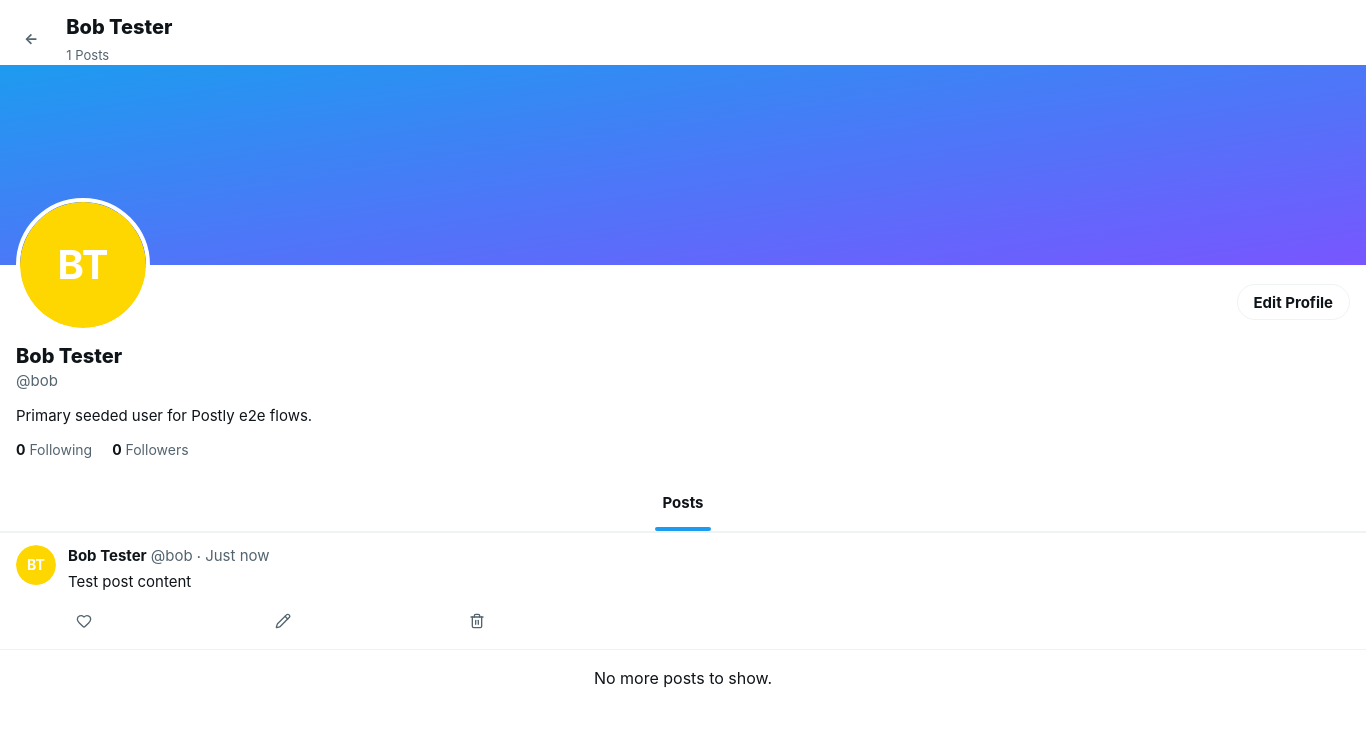
Test: profile editing UI › preserves draft inputs and keeps saved identity unchanged after a failed save
Click the button with test id "profile-edit-button": (1293, 302) [1236,284,1350,320]
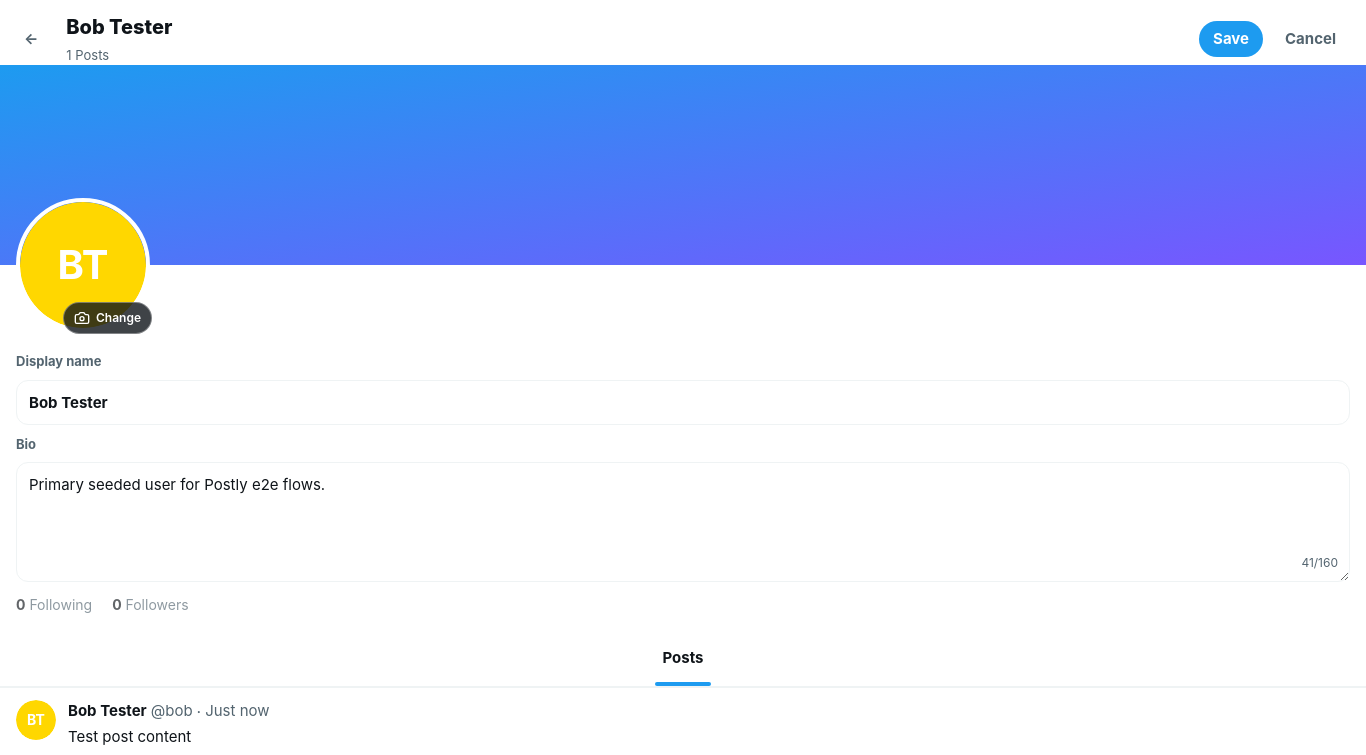
Replace the text in the field with test id "profile-display-name-input" with "  Bob Draft  ": (683, 402) [16,380,1350,424]
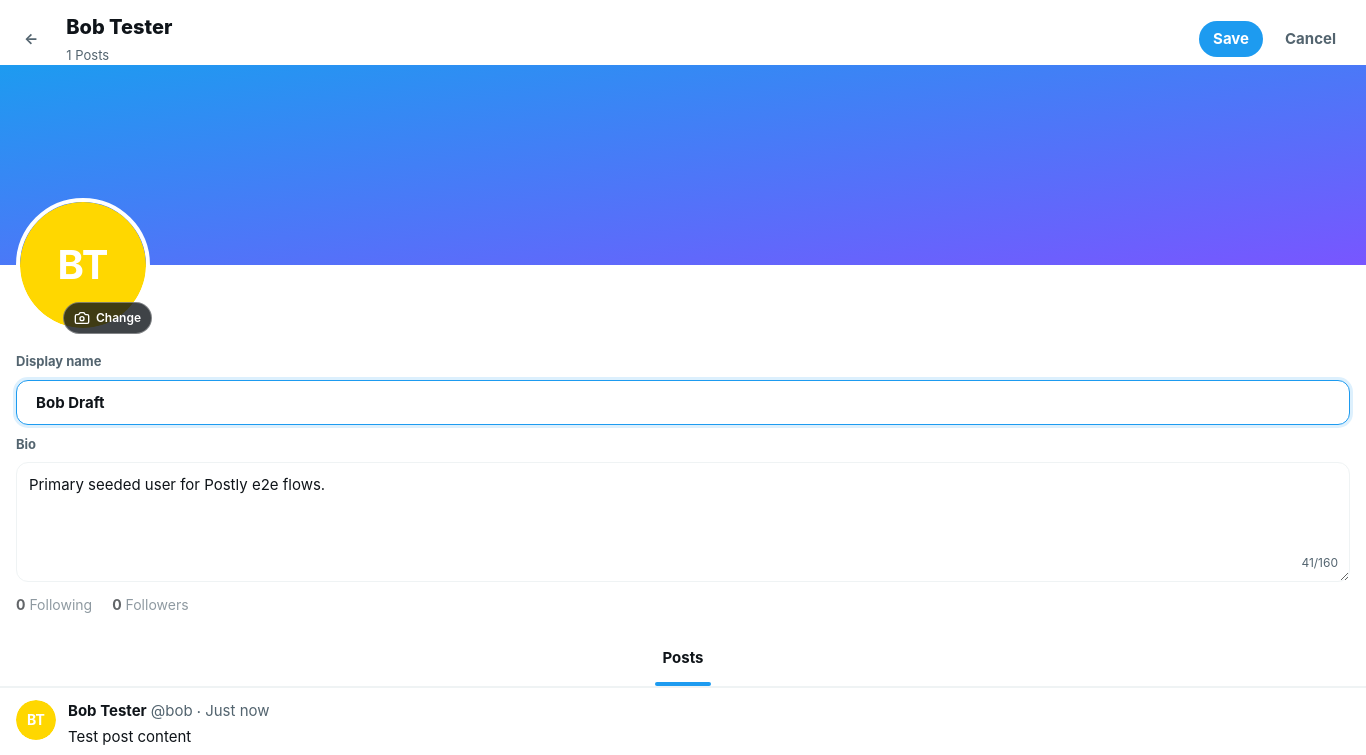
Click the button with test id "profile-save-button": (1231, 38) [1199,20,1263,56]
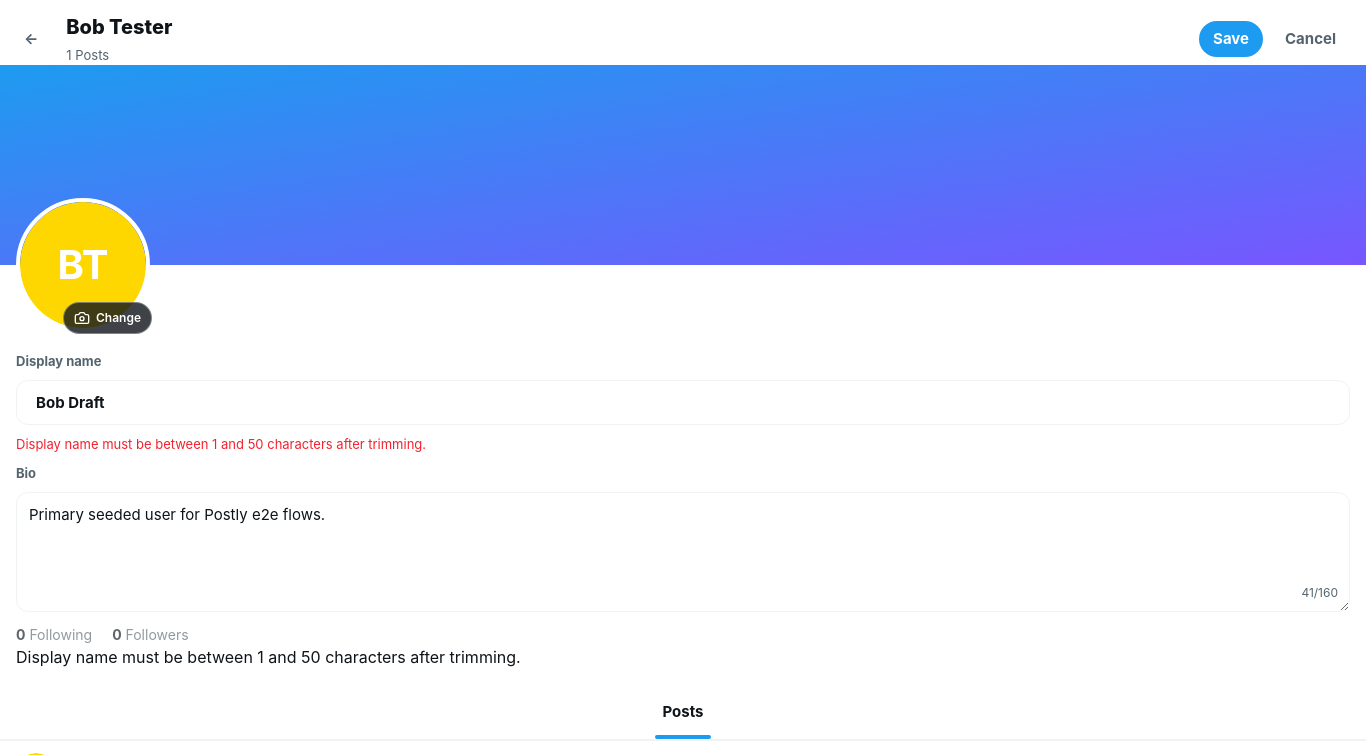
Expected: the heading with test id "profile-display-name" reads "Bob Tester", [66,14,172,38]
Expected: the message with test id "profile-form-status" reads "Display name must be between 1 and 50 characters after trimming.", [16,646,521,666]
